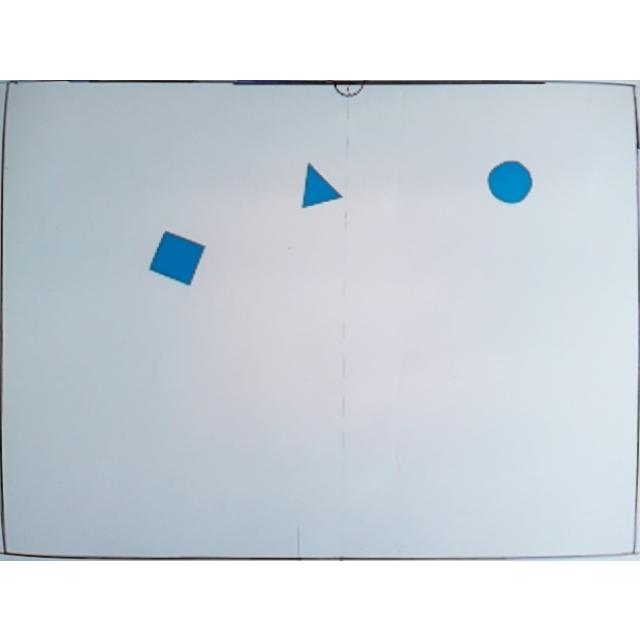blueCircle: (486, 158, 534, 205)
blueSquare: (150, 227, 207, 286)
blueTriangle: (300, 160, 344, 208)
